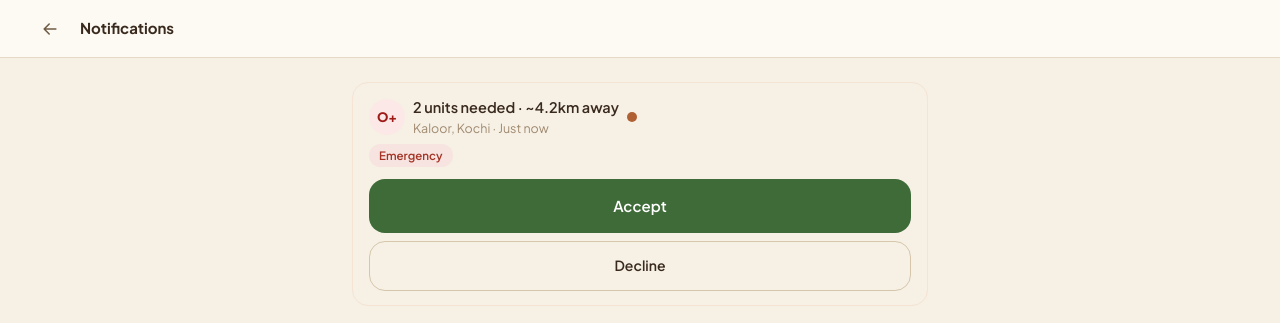
Test case: NotificationsPage › shows an error toast when the request is no longer active
Click the button "Accept" at (640, 206), box [369, 179, 911, 233]
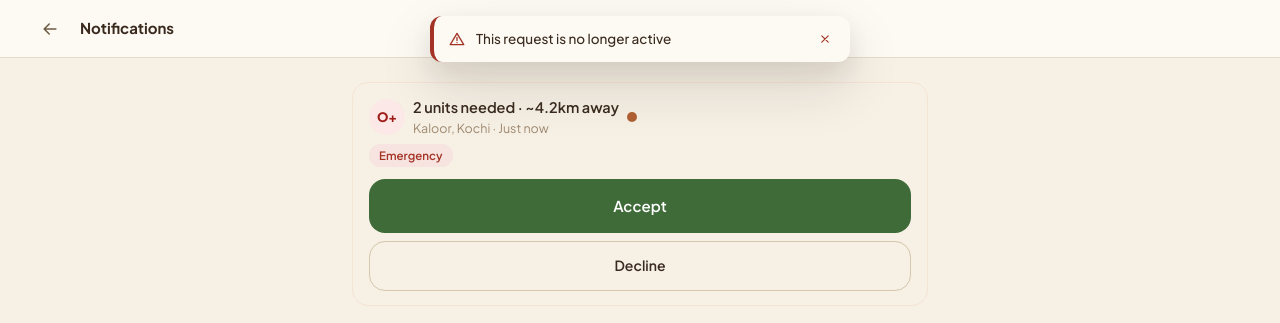
Now the text "This request is no longer active" is shown, box [476, 30, 671, 47]
